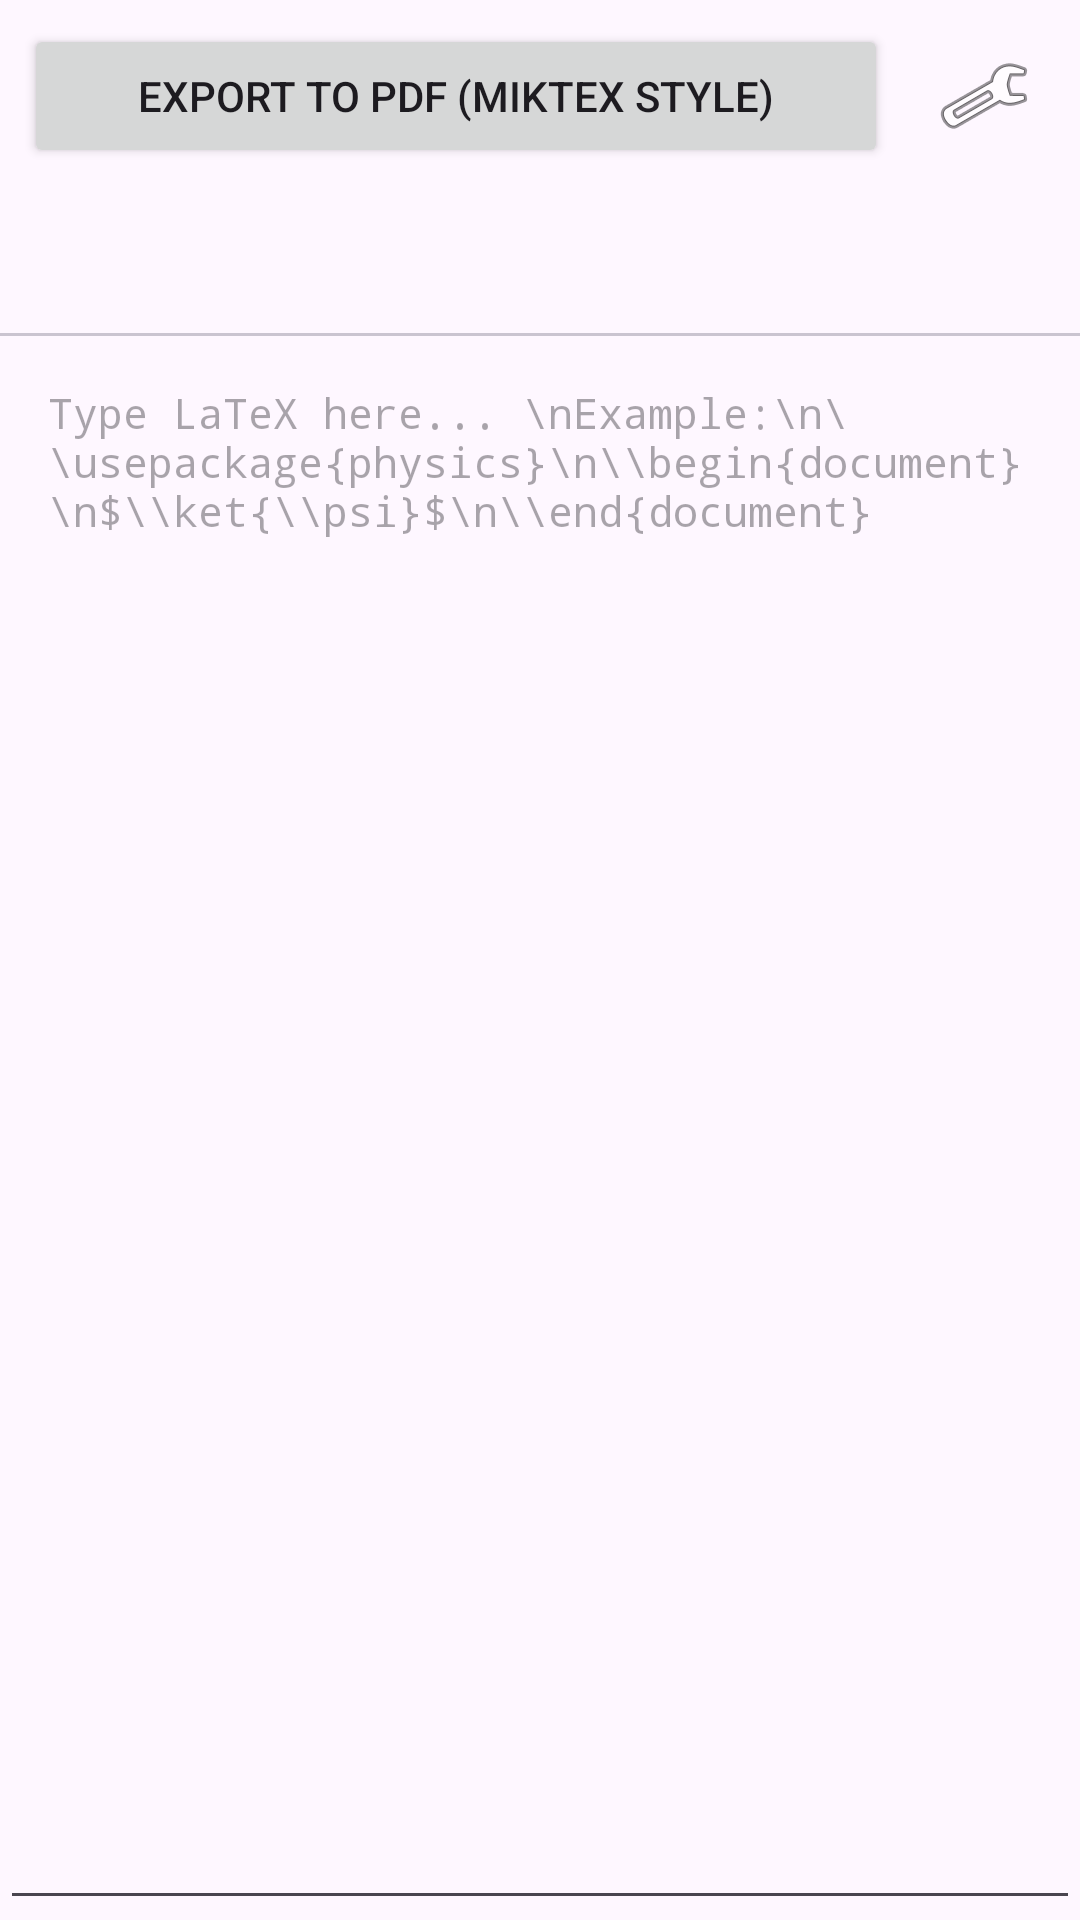

Locate icon controls on the screen. Image size 1080w x 1920h, boxes as box=[x1, y1, x2, y2].
Settings: box=[941, 63, 1027, 129]
